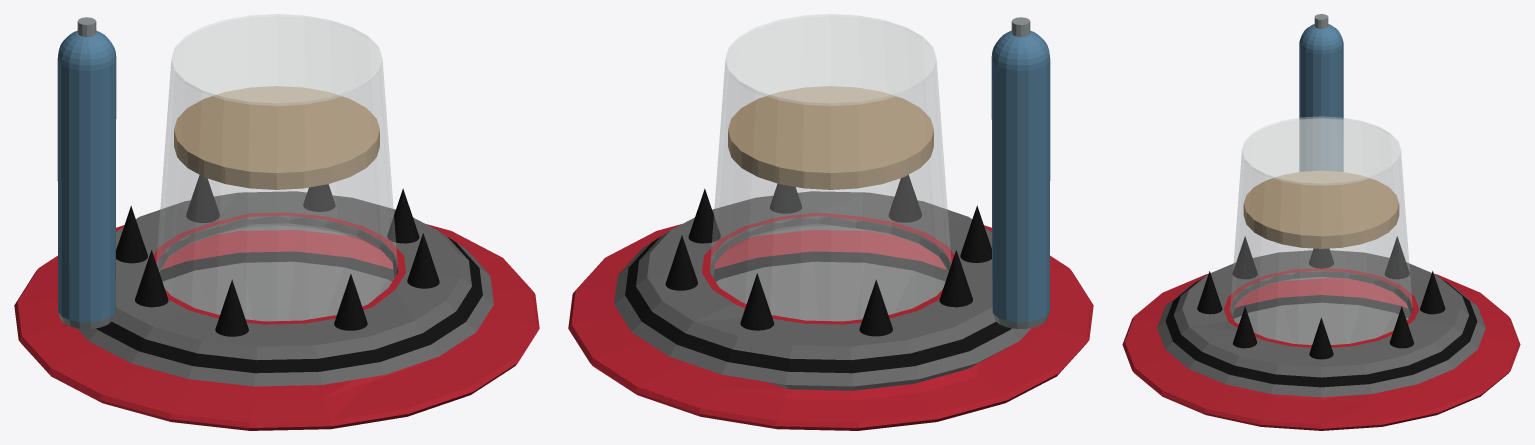
File: sol6_t04.glb
3 renders of one model, left to right at view 1: azimuth 30°, elevation 25°; view 2: azimuth 150°, elevation 25°; view 3: azimuth 270°, elevation 25°, orthographic. The views are drawn at different scales.
Parts seen in each view (by area): view 1: slot_anchor_saucer, glass_cover, brown_disc, glass_top, blue_cylinder, blue_shoulder; view 2: slot_anchor_saucer, glass_cover, brown_disc, glass_top, blue_cylinder, blue_shoulder; view 3: slot_anchor_saucer, glass_cover, brown_disc, glass_top, blue_cylinder, blue_shoulder.
Boxes of the visible parts, x1,y1,x2,y2 form: slot_anchor_saucer: (14, 175, 539, 430); glass_cover: (156, 17, 397, 320); brown_disc: (174, 86, 379, 189); glass_top: (171, 14, 382, 105); blue_cylinder: (57, 58, 116, 322); blue_shoulder: (57, 30, 116, 70); slot_anchor_saucer: (568, 175, 1093, 430); glass_cover: (710, 17, 951, 320); brown_disc: (728, 86, 933, 189); glass_top: (725, 14, 936, 105); blue_cylinder: (991, 58, 1050, 322); blue_shoulder: (991, 30, 1050, 70); slot_anchor_saucer: (1122, 236, 1520, 430); glass_cover: (1230, 118, 1412, 344); brown_disc: (1243, 171, 1399, 248); glass_top: (1242, 116, 1400, 185); blue_cylinder: (1299, 46, 1343, 171); blue_shoulder: (1299, 24, 1343, 54).
Size of the model in its own units: 2 by 1.77 by 2.
5 materials, 1 textured.
